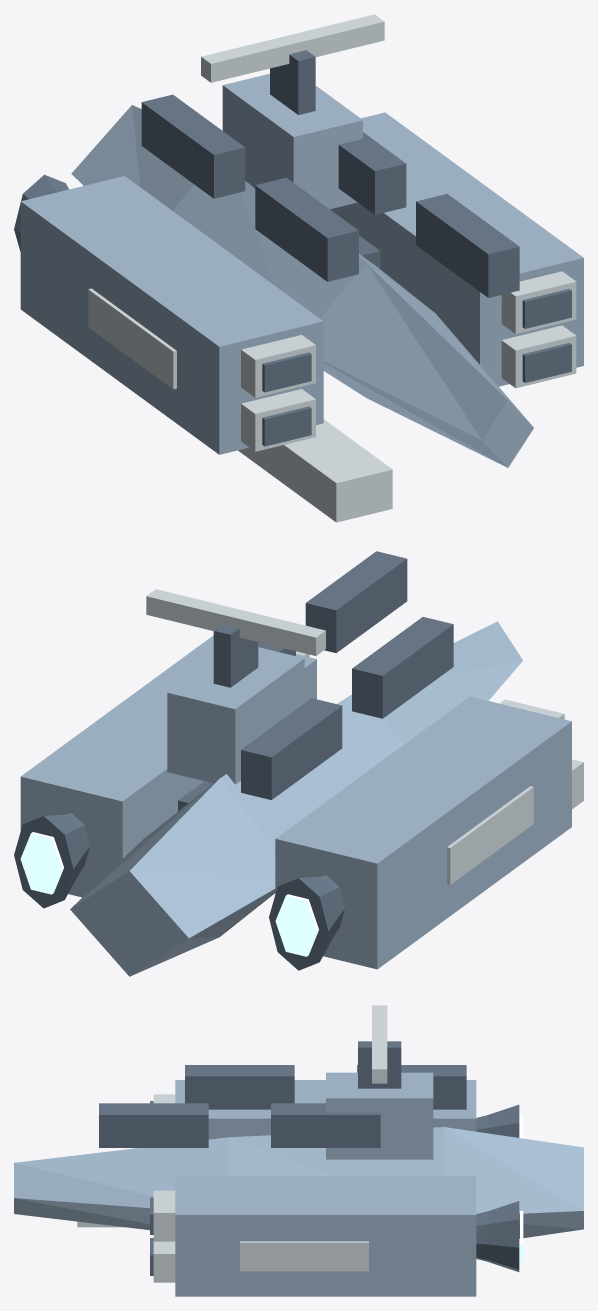
The picture shows the model from 3 angles, top to bottom: view 1: azimuth 30°, elevation 25°; view 2: azimuth 150°, elevation 25°; view 3: azimuth 270°, elevation 25°; orthographic projection. The views are drawn at different scales.
Size of the model in its own units: 7.11 by 5.48 by 12.48.
